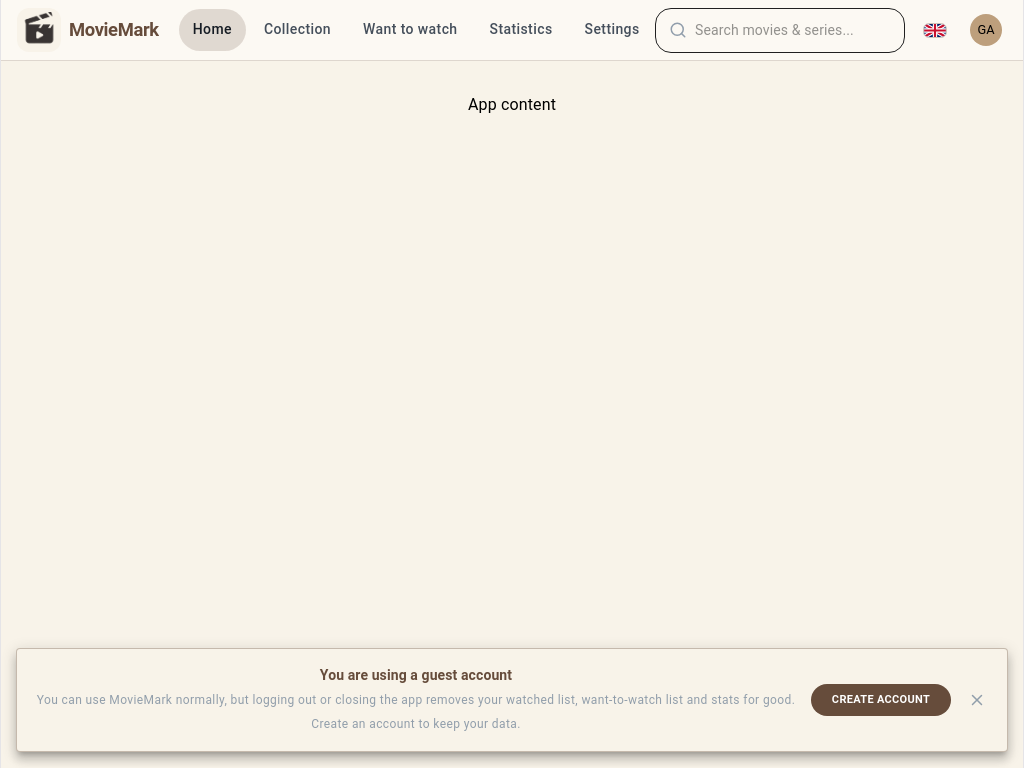
Test: GuestBanner in AppLayout › explains the guest account and links to the register page
The width and height of the screenshot is (1024, 768).
Expected: the text "App content" is shown, [468,95,556,114]
Expected: the heading "You are using a guest account" is shown, [320,667,512,683]
Step 1. Click the button "Create account" → (881, 700), box [811,684,951,716]
(page scrolled)
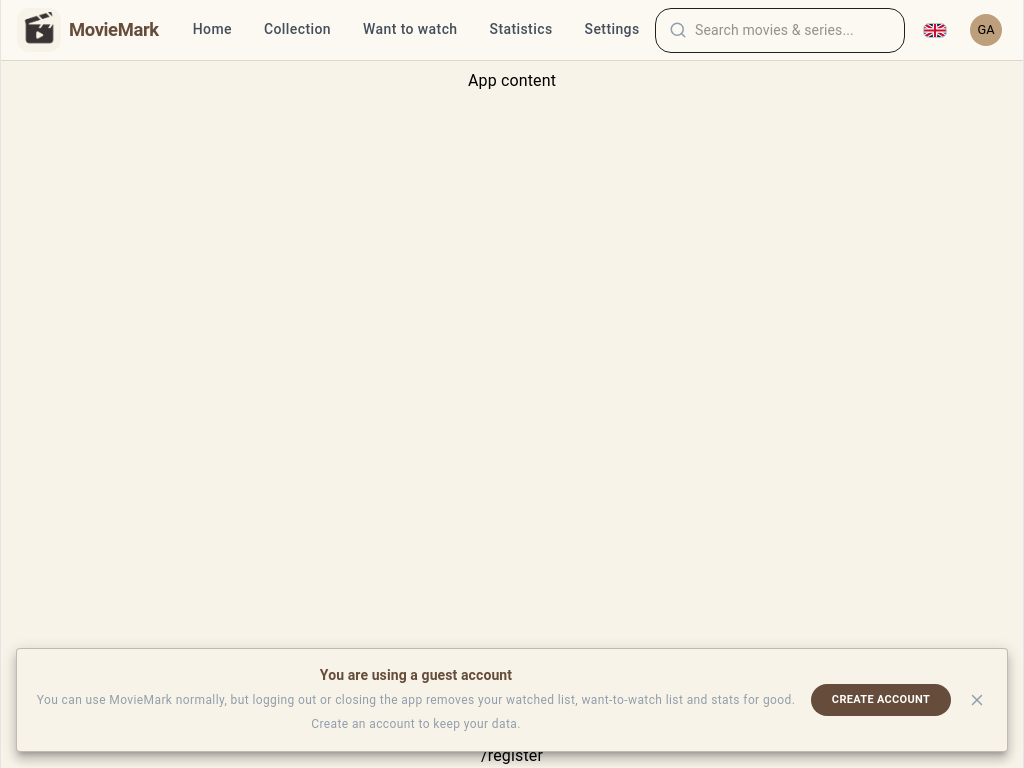
Expected: the text with test id "probe" reads "/register", [481,746,543,765]
